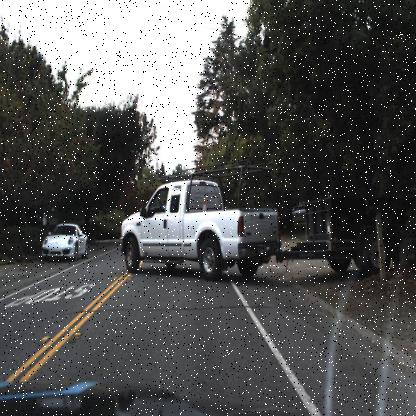car: (118, 156, 410, 275), (42, 221, 86, 262)
